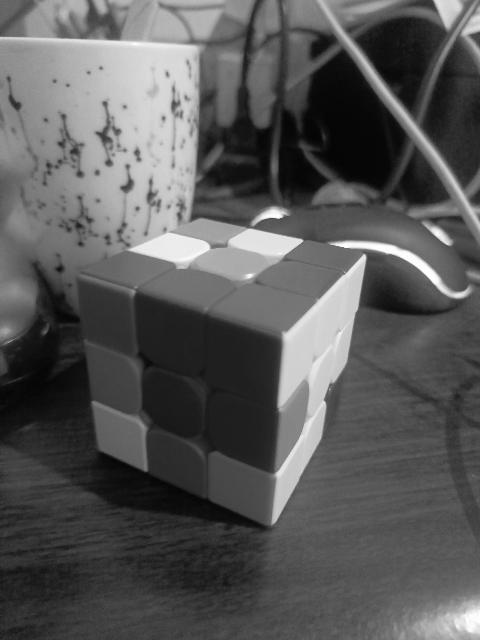rubik: (76, 215, 368, 527)
